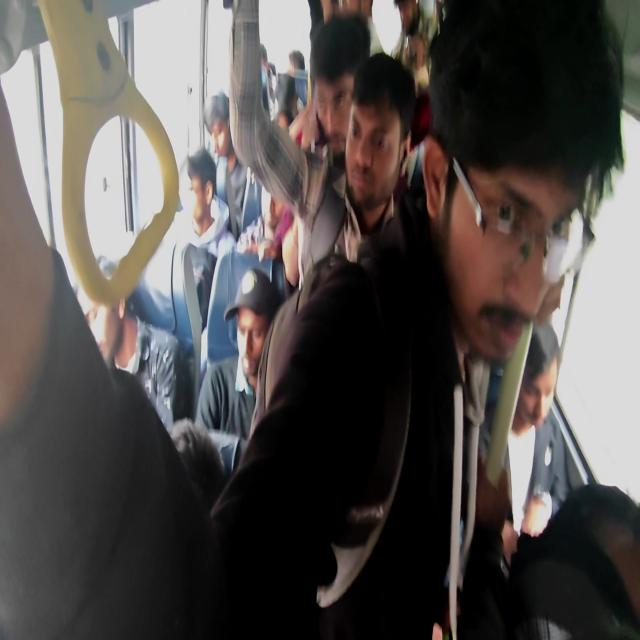person: (440, 34, 579, 335), (350, 82, 406, 215), (308, 30, 354, 182), (160, 440, 222, 542), (81, 265, 141, 351), (227, 287, 274, 381), (523, 343, 568, 438), (254, 160, 296, 259), (174, 156, 222, 230), (205, 98, 241, 152), (272, 112, 295, 166), (278, 75, 297, 116), (253, 36, 271, 72), (286, 53, 307, 82)
